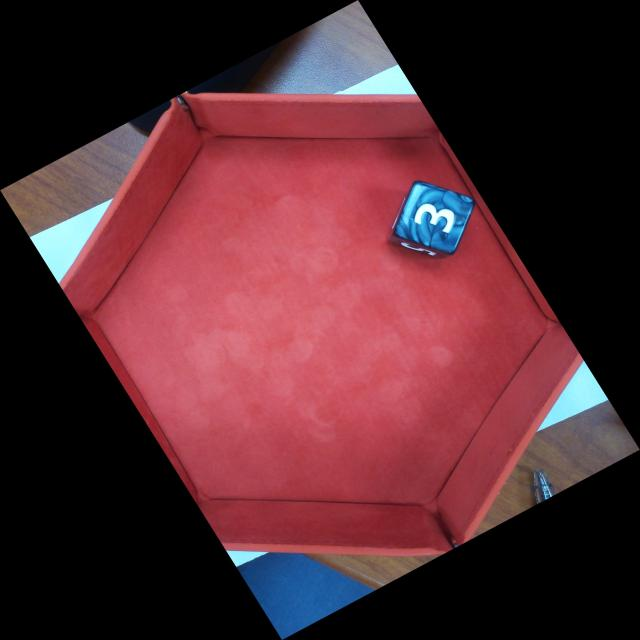dice: (389, 178, 477, 257)
